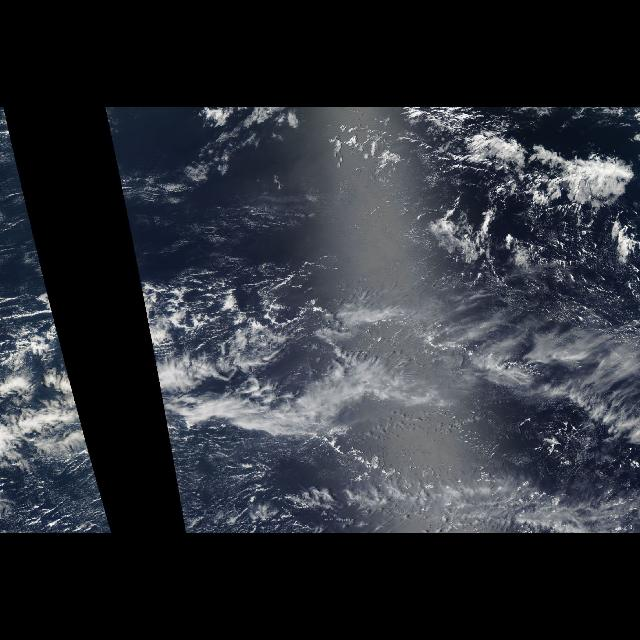Fish: (375, 110, 639, 222)
Sugar: (170, 418, 638, 532), (116, 112, 374, 264), (498, 232, 638, 338), (4, 456, 112, 532)
